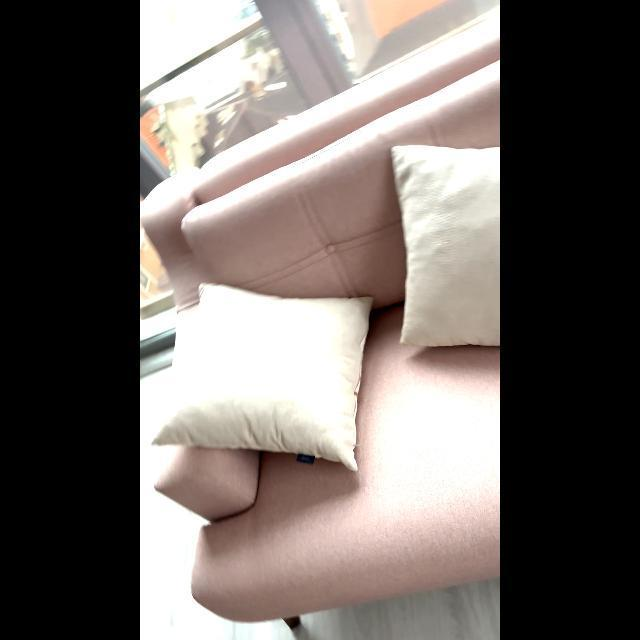throw pillow: (154, 266, 388, 478), (380, 138, 500, 358)
